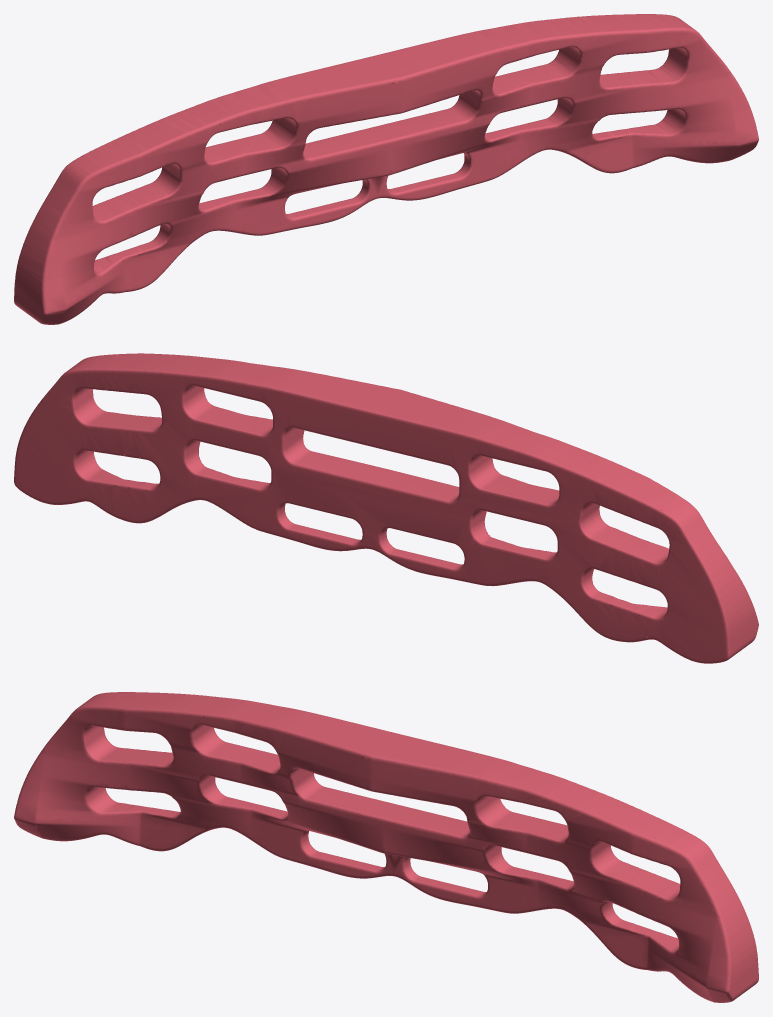
File: escape-beta-board.glb
The picture shows the model from 3 angles, top to bottom: view 1: azimuth 30°, elevation 25°; view 2: azimuth 150°, elevation 25°; view 3: azimuth 330°, elevation 25°; orthographic projection.
Visible parts, largest first — view 1: body-board, centre-sloper-50, centre-sloper-31, left-pinch, right-pinch, left-jug-38, right-incut-29, right-incut-12, left-flat-38, left-incut-29, right-jug-38, right-flat-38 (+7 smaller); view 2: body-board, centre-sloper-50, left-pinch, centre-sloper-31, left-jug-38, left-flat-38, right-flat-38, right-jug-38, left-flat-29, right-flat-29, right-incut-29, left-incut-29 (+4 smaller); view 3: body-board, centre-sloper-50, centre-sloper-31, right-pinch, left-pinch, right-jug-38, left-incut-29, left-incut-12, right-flat-38, right-incut-29, left-jug-38, left-flat-38 (+7 smaller).
Boxes of the visible parts, left/top/right/bottom form: body-board: left=85, top=33, right=698, bottom=278; centre-sloper-50: left=278, top=33, right=491, bottom=123; centre-sloper-31: left=282, top=104, right=486, bottom=196; left-pinch: left=14, top=167, right=87, bottom=324; right-pinch: left=679, top=18, right=758, bottom=163; left-jug-38: left=66, top=114, right=197, bottom=186; right-incut-29: left=582, top=58, right=697, bottom=122; right-incut-12: left=576, top=117, right=699, bottom=173; left-flat-38: left=174, top=80, right=301, bottom=140; left-incut-29: left=86, top=184, right=190, bottom=252; right-jug-38: left=570, top=14, right=696, bottom=65; right-flat-38: left=468, top=17, right=592, bottom=70; body-board: left=14, top=370, right=727, bottom=663; centre-sloper-50: left=277, top=370, right=489, bottom=435; left-pinch: left=677, top=508, right=758, bottom=663; centre-sloper-31: left=286, top=446, right=459, bottom=502; left-jug-38: left=569, top=453, right=695, bottom=522; left-flat-38: left=467, top=417, right=591, bottom=471; right-flat-38: left=173, top=356, right=299, bottom=405; right-jug-38: left=65, top=353, right=194, bottom=401; left-flat-29: left=473, top=471, right=559, bottom=531; right-flat-29: left=187, top=403, right=272, bottom=460; right-incut-29: left=74, top=400, right=161, bottom=462; left-incut-29: left=586, top=527, right=669, bottom=579; body-board: left=74, top=711, right=687, bottom=956; centre-sloper-50: left=281, top=711, right=494, bottom=801; centre-sloper-31: left=286, top=782, right=490, bottom=874; right-pinch: left=685, top=845, right=758, bottom=1002; left-pinch: left=14, top=696, right=93, bottom=841; right-jug-38: left=575, top=792, right=706, bottom=864; left-incut-29: left=75, top=736, right=190, bottom=801; left-incut-12: left=73, top=795, right=196, bottom=851; right-flat-38: left=471, top=758, right=598, bottom=818; right-incut-29: left=582, top=862, right=686, bottom=930; left-jug-38: left=76, top=692, right=202, bottom=743; left-flat-38: left=180, top=695, right=304, bottom=748.
Size of the model in its own units: 0.6605 by 0.1519 by 0.0505.
